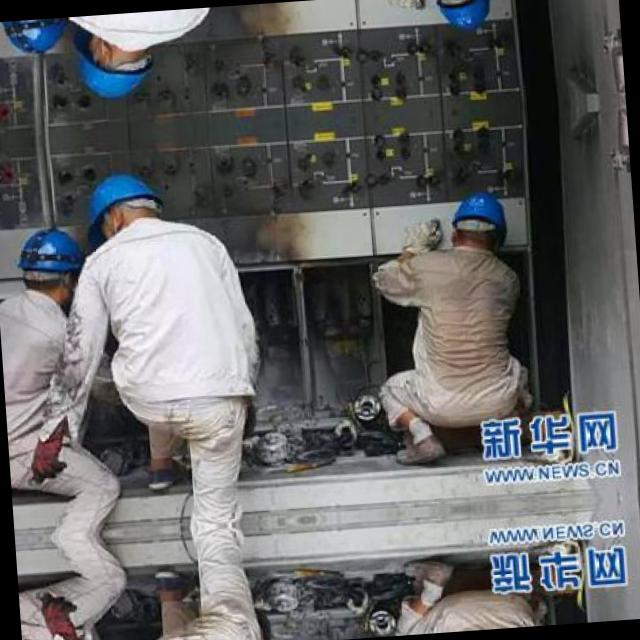helmet: (80, 168, 168, 246), (70, 24, 158, 102), (19, 224, 89, 305), (444, 191, 509, 257), (5, 16, 72, 58), (429, 0, 495, 31)
